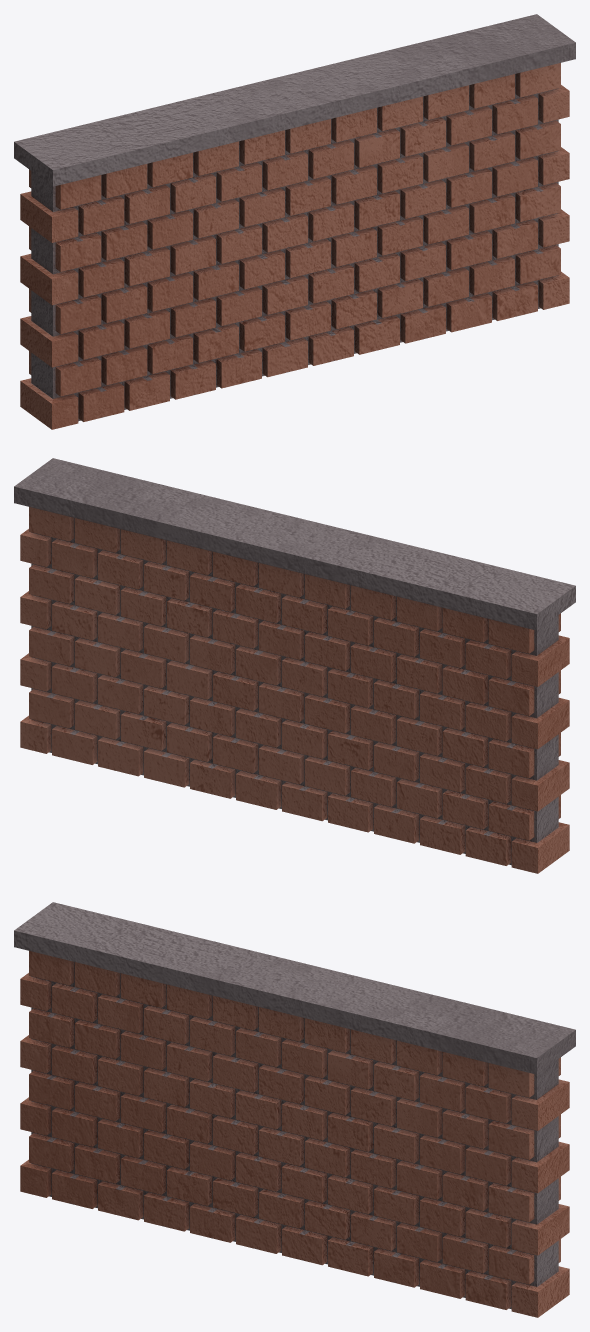
File: wall.fbx
3 renders of one model, top to bottom at view 1: azimuth 30°, elevation 25°; view 2: azimuth 150°, elevation 25°; view 3: azimuth 330°, elevation 25°, orthographic.
Parts seen in each view (by area): view 1: Cube; view 2: Cube; view 3: Cube.
Part boxes in pixels (x1,y1,x2,y2): Cube: [14, 14, 575, 429]; Cube: [14, 458, 575, 873]; Cube: [14, 902, 575, 1317].
Bounding box in the file's own units: 1014 × 492 × 131.
